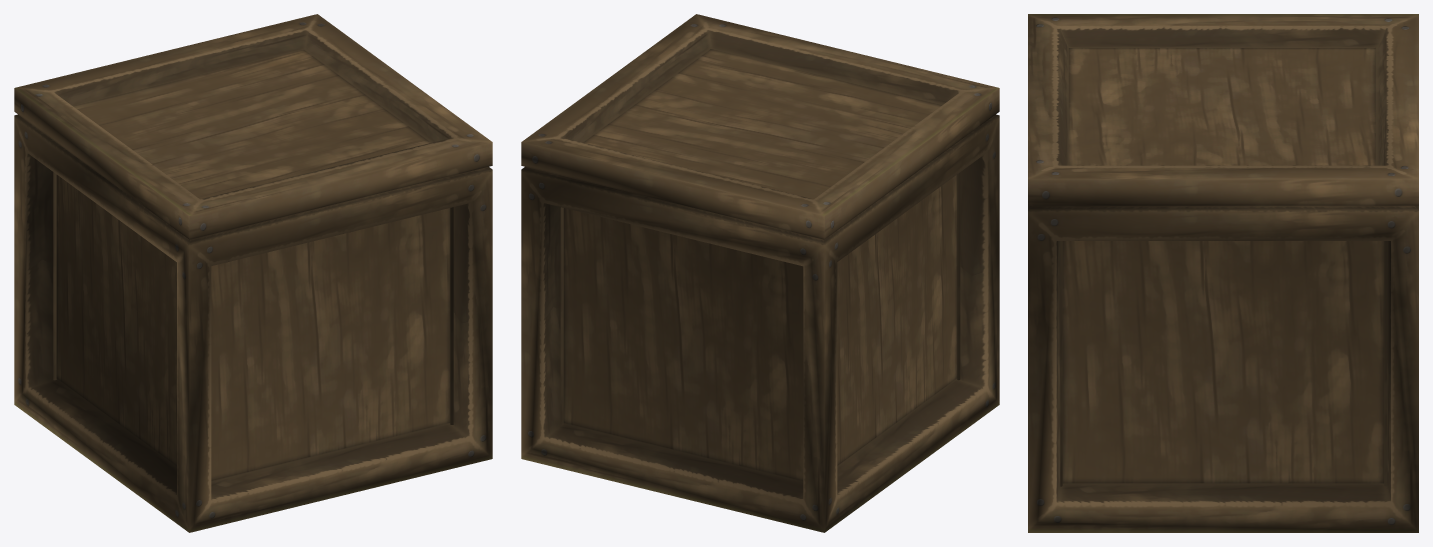
Rendered from CrateSquare.fbx.
The picture shows the model from 3 angles, left to right: view 1: azimuth 30°, elevation 25°; view 2: azimuth 150°, elevation 25°; view 3: azimuth 270°, elevation 25°; orthographic projection. The views are drawn at different scales.
Parts seen in each view (by area): view 1: Mesh; view 2: Mesh; view 3: Mesh.
Part boxes in pixels (x1,y1,x2,y2): Mesh: (14,14,492,532); Mesh: (521,14,999,532); Mesh: (1028,14,1418,532).
Size of the model in its own units: 87.46 by 87.34 by 87.46.
